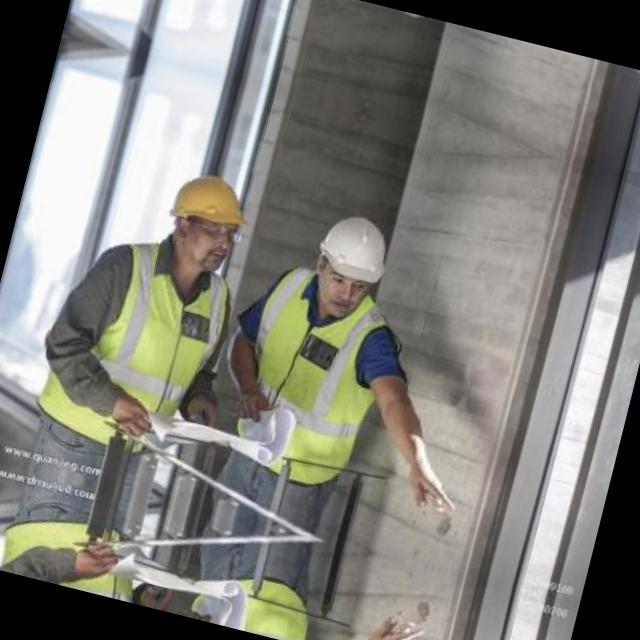helmet: (296, 196, 406, 329), (150, 156, 258, 283)
